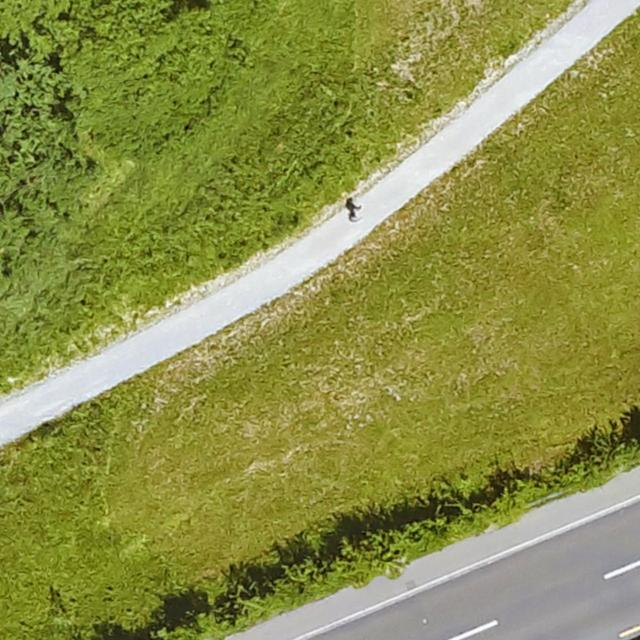tree: (0, 49, 85, 292)
